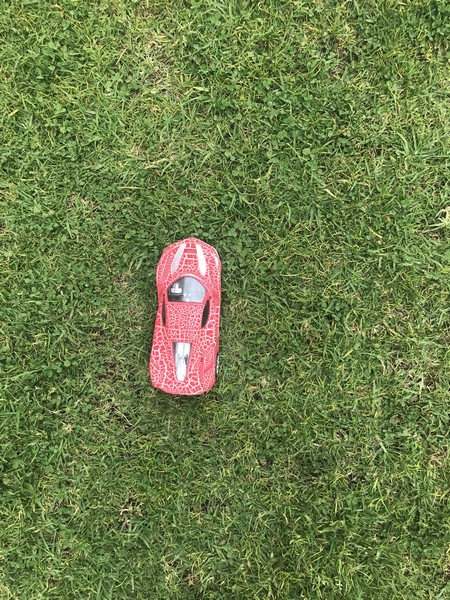RC: (146, 236, 226, 398)
